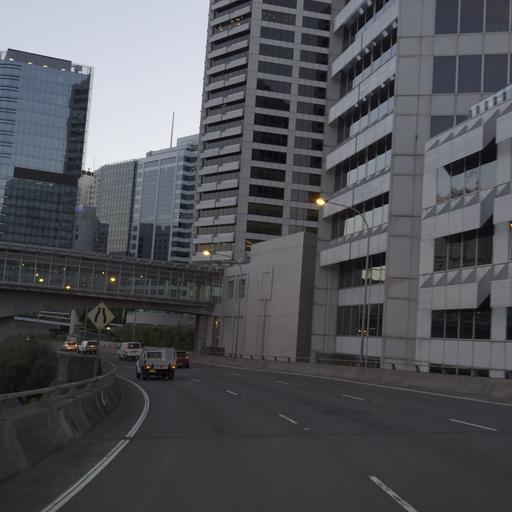Street light: (314, 196, 371, 365), (201, 248, 244, 357)
